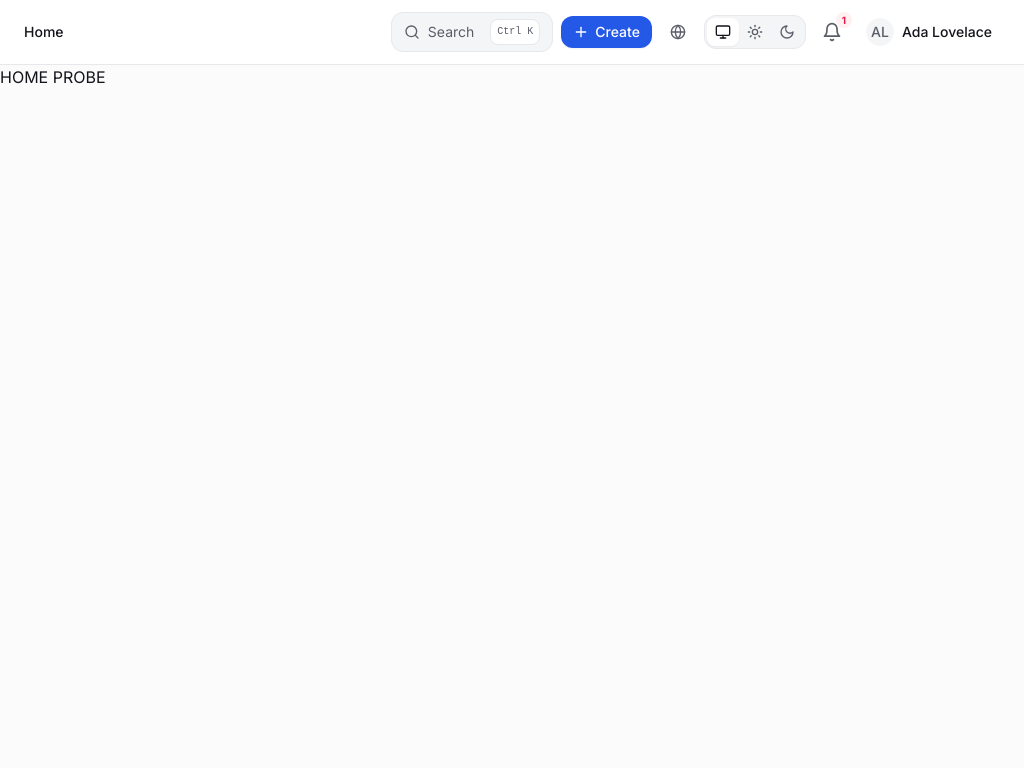
Test: MarketingHeader — notification click › routes a lead-shaped notification to that lead
Click the button named "Notifications" at [832, 32], box left=814, top=14, right=850, bottom=50
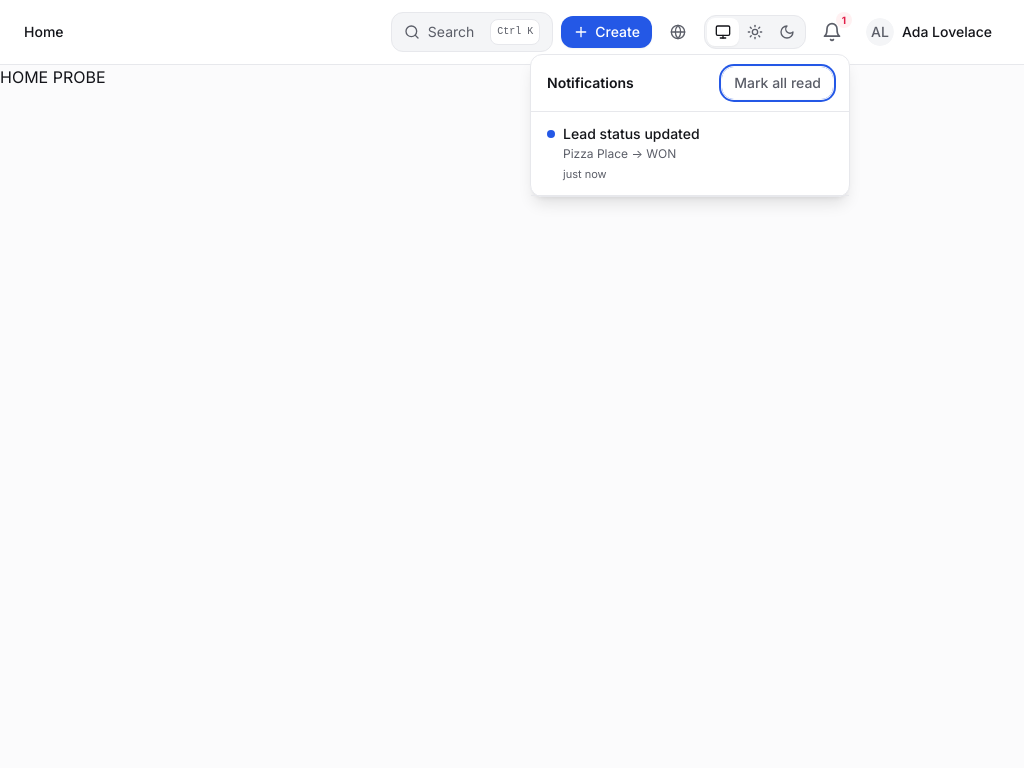
Click the text "Lead status updated" at [631, 134], box left=563, top=125, right=700, bottom=142
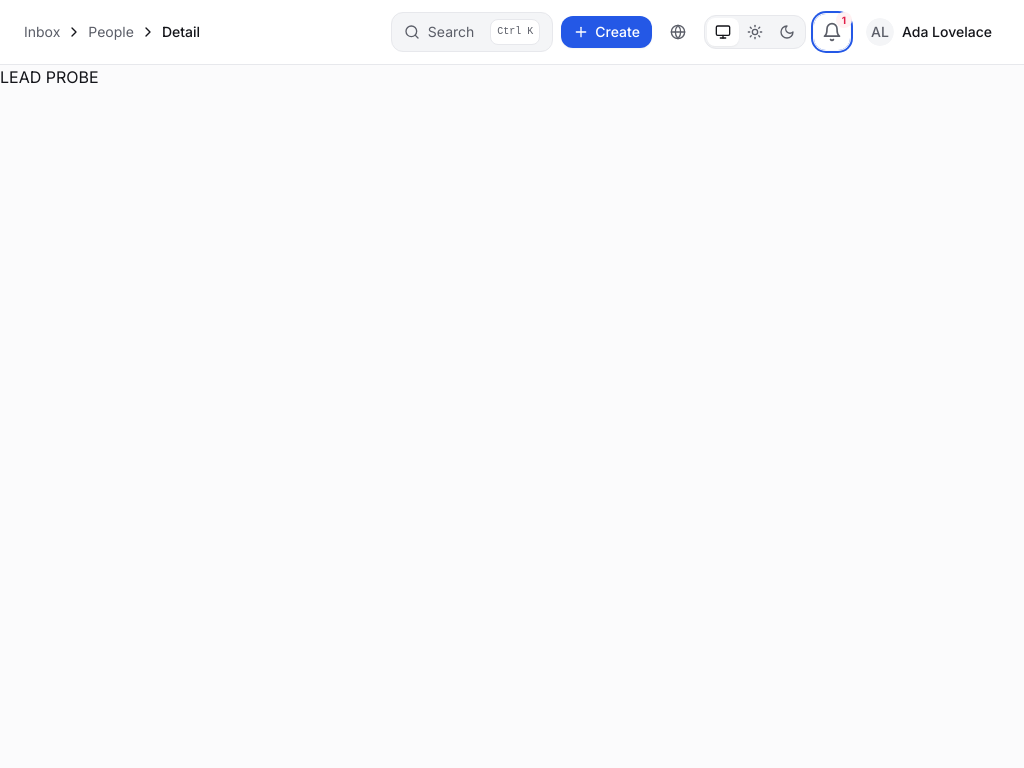
Check: the text "LEAD PROBE" is shown, box left=0, top=67, right=99, bottom=87
